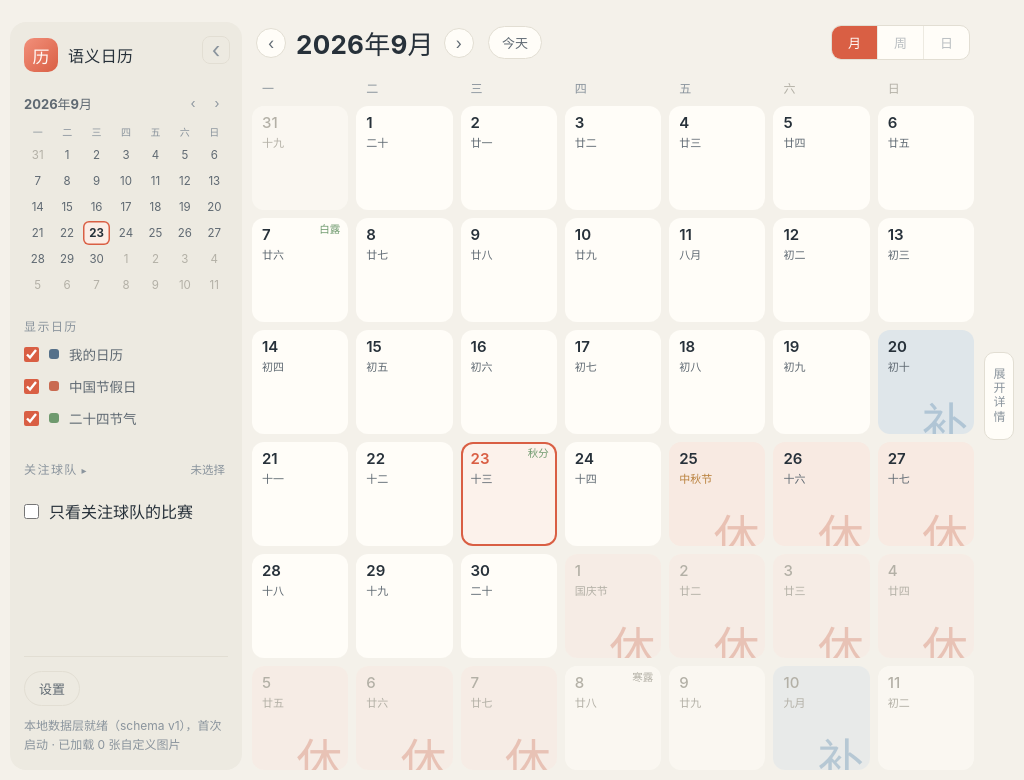
Test: ICS / WebCal 订阅（SC-007 / SRC-002 / SRC-003 / SRC-004） › 添加订阅后事件进入月视图，来源与缓存校验值写入快照
Expected: the text "本地数据层就绪（schema v1），首次启动 · 已加载 0 张自定义图片" is shown, [24,716,228,754]
Click the button "设置": (52, 688) [24,671,80,706]
(page scrolled)
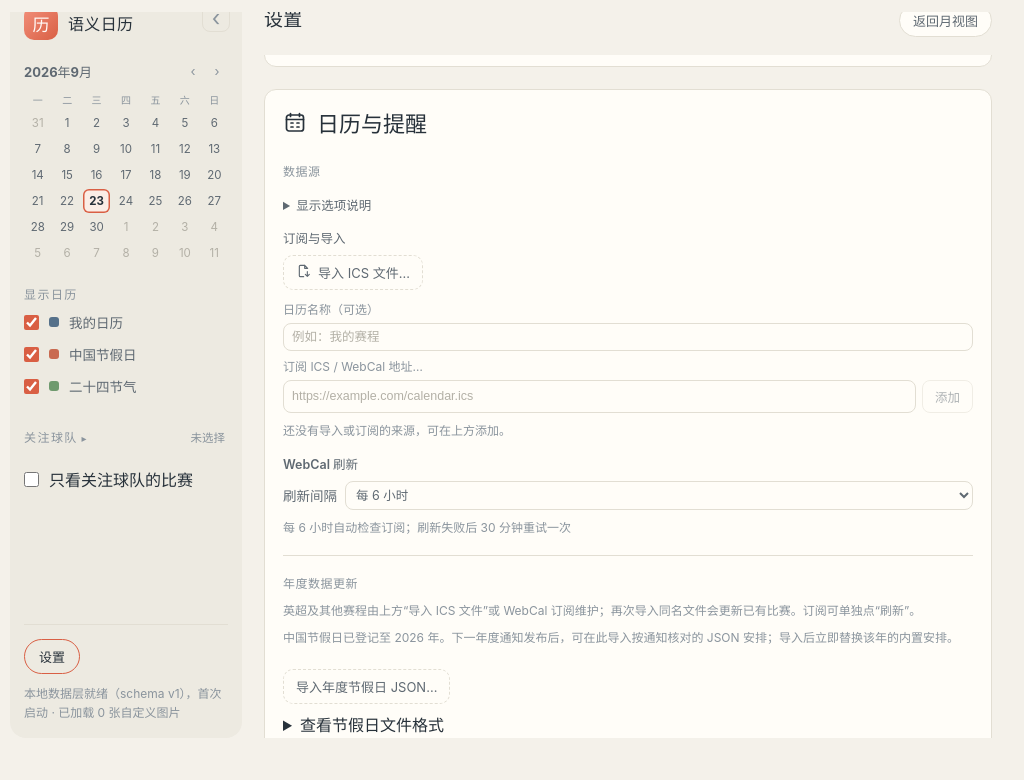
In the field labelled "订阅 ICS / WebCal 地址…": (600, 396) [283,380,916,413], type "https://calendar.example.com/feed.ics?token=SECRET-TOKEN"
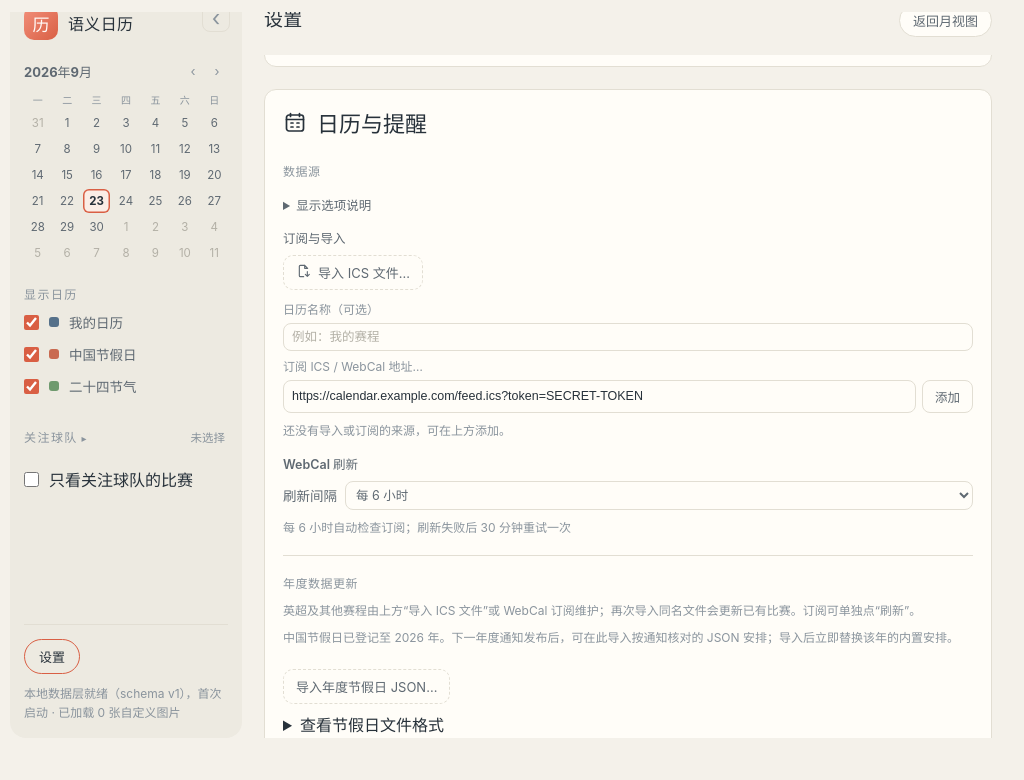
Click the button "添加": (948, 396) [922,380,973,413]
(page scrolled)
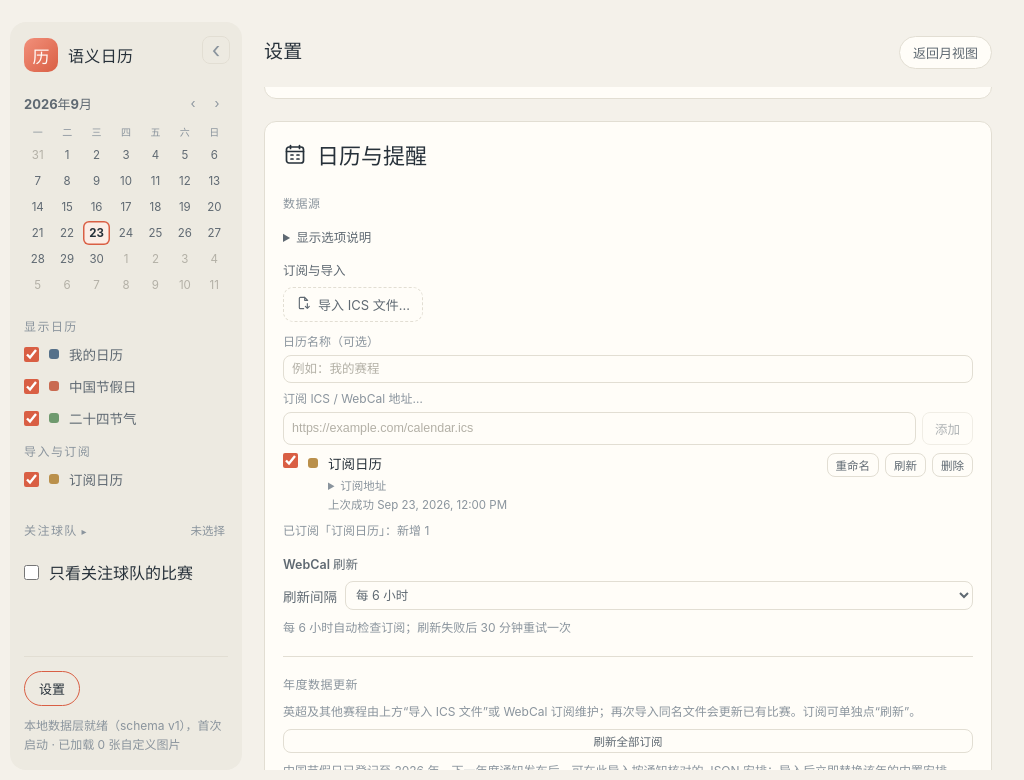
Now the text "订阅日历" below "订阅 ICS / WebCal 地址…" is shown, box [328,456,382,472]
Click the button "返回月视图": (946, 52) [899,36,992,69]
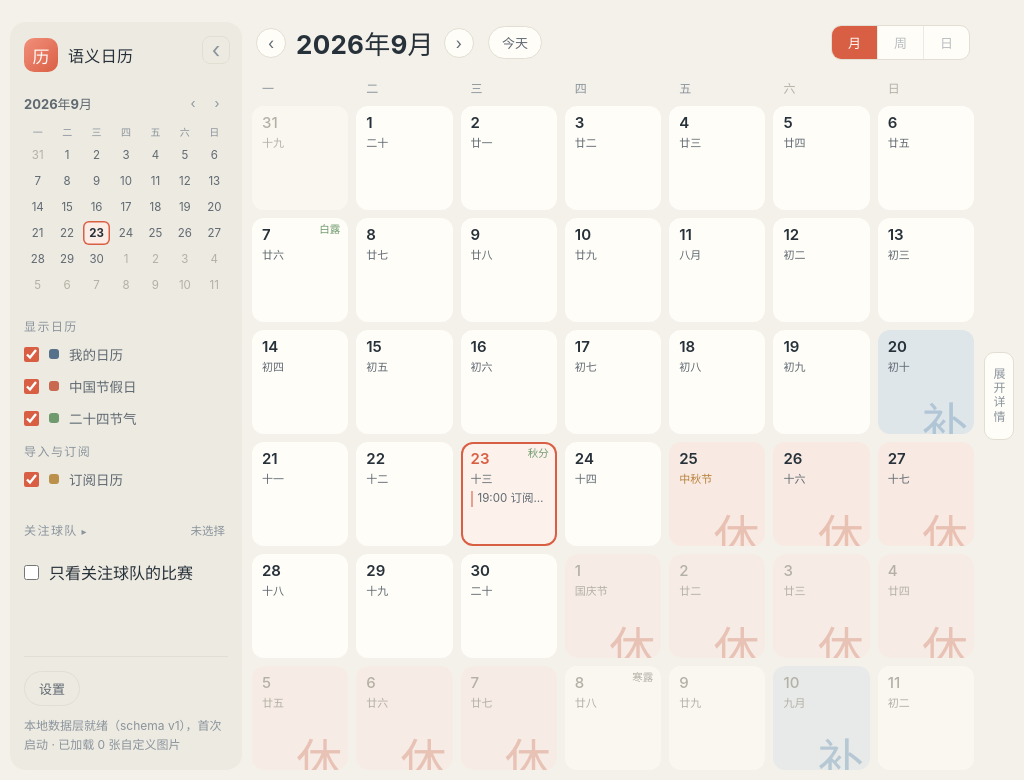
Expected: the text "SECRET-TOKEN" is not shown
Now the text "19:00 订阅例会" is shown, box [471,491,547,507]
